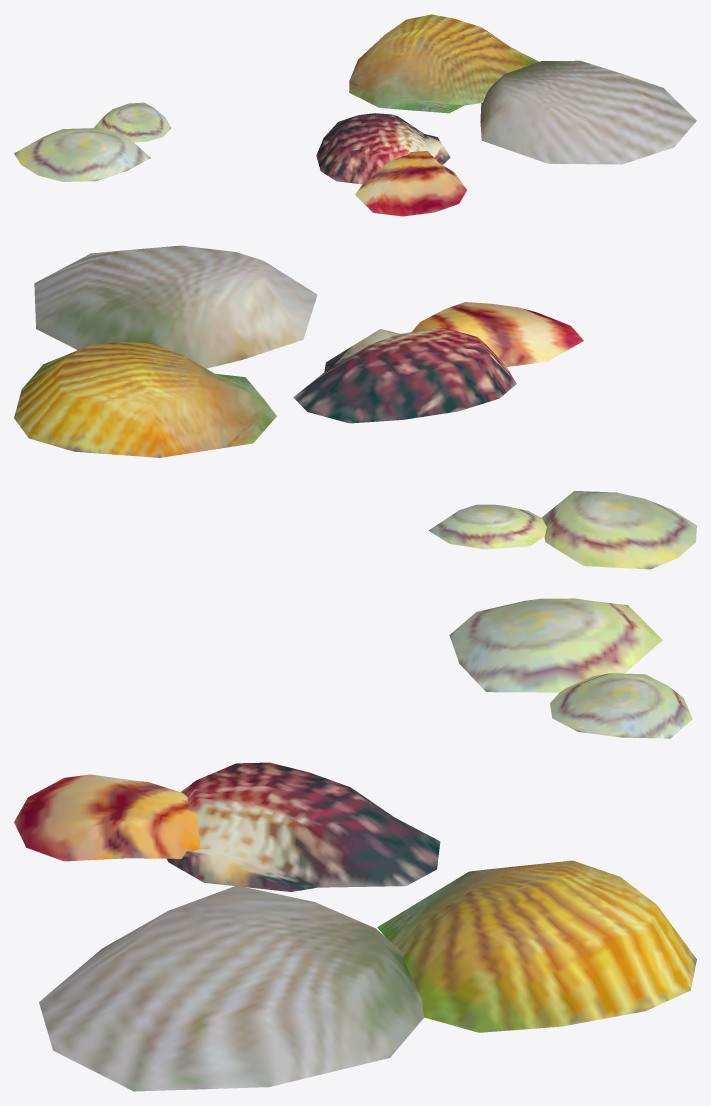
The model's file is S_Build_Sea030.FBX.
The picture shows the model from 3 angles, top to bottom: view 1: azimuth 30°, elevation 25°; view 2: azimuth 150°, elevation 25°; view 3: azimuth 270°, elevation 25°; orthographic projection. The views are drawn at different scales.
Parts seen in each view (by area): view 1: S_Build_Sea030; view 2: S_Build_Sea030; view 3: S_Build_Sea030.
Boxes of the visible parts, x1=… form: S_Build_Sea030: x1=14, y1=14, x2=696, y2=216; S_Build_Sea030: x1=14, y1=245, x2=696, y2=569; S_Build_Sea030: x1=14, y1=598, x2=696, y2=1091.
Size of the model in its own units: 196 by 114 by 13.69.
Materials: 1 (1 with a texture image).
